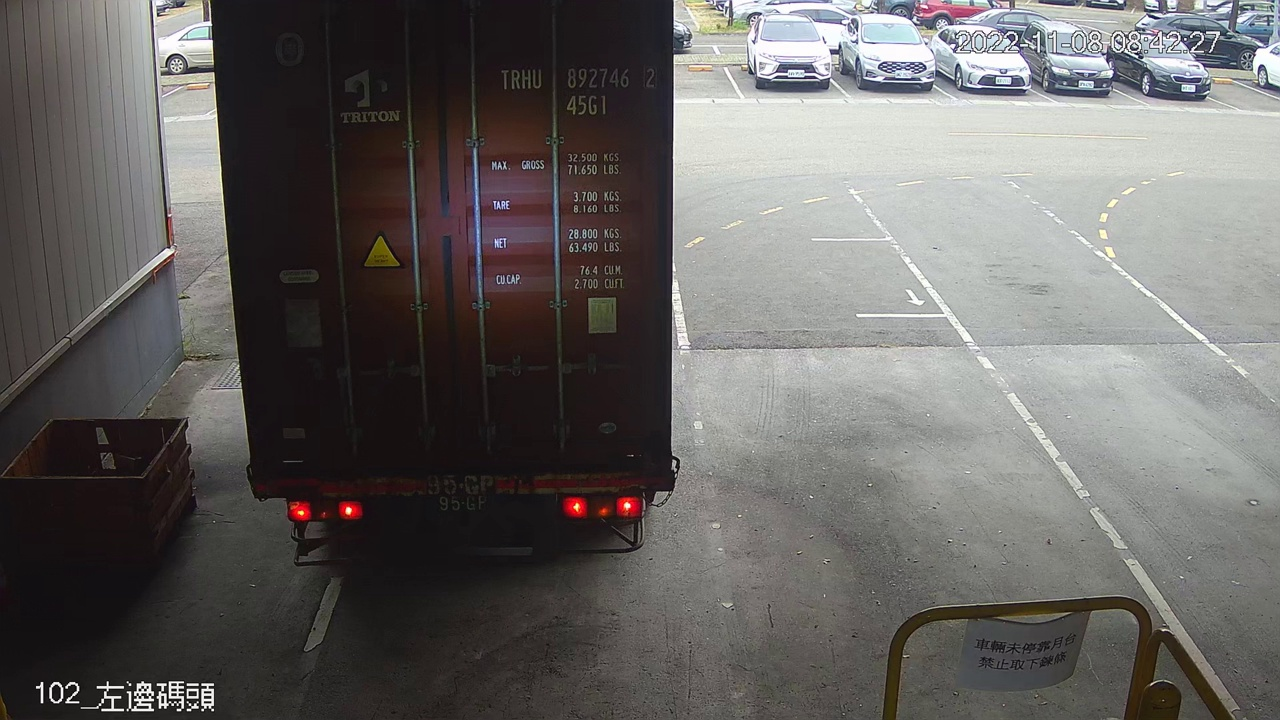container: (490, 56, 665, 124)
